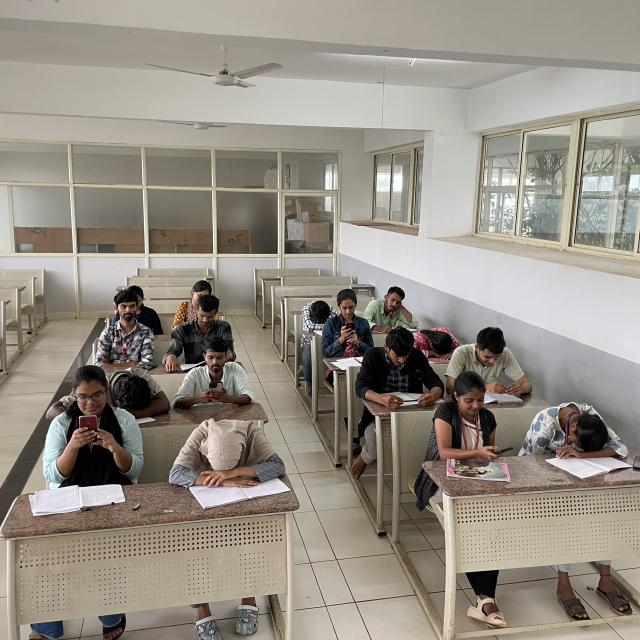Reading: (358, 322, 442, 412), (444, 324, 539, 400), (166, 297, 245, 371)
Sleeping: (166, 412, 288, 492), (515, 396, 630, 468), (46, 362, 174, 419), (403, 321, 468, 362), (292, 297, 338, 346)
Using Phone: (42, 366, 148, 486), (430, 370, 514, 460), (170, 337, 262, 410), (324, 286, 375, 354)
Writing: (359, 282, 420, 332)
